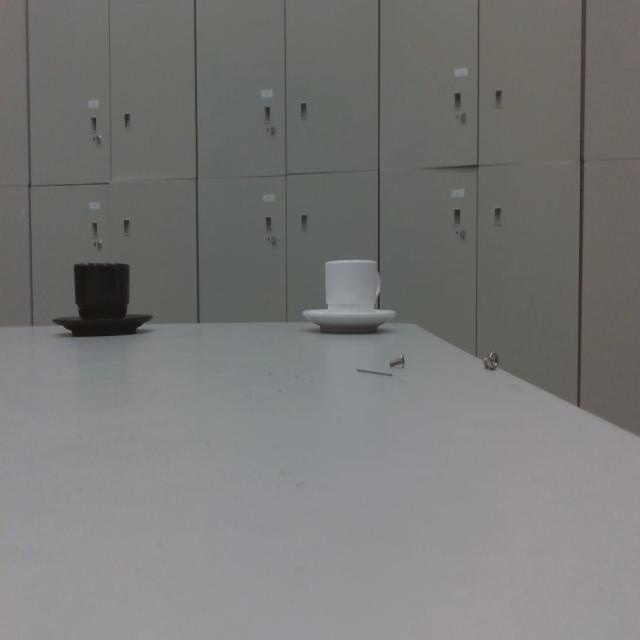black: (52, 254, 156, 346)
white: (302, 254, 398, 338)
